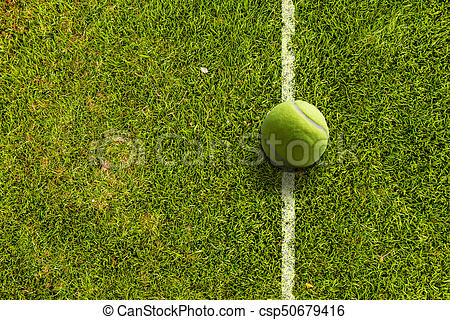tennis_ball: (260, 101, 330, 171)
